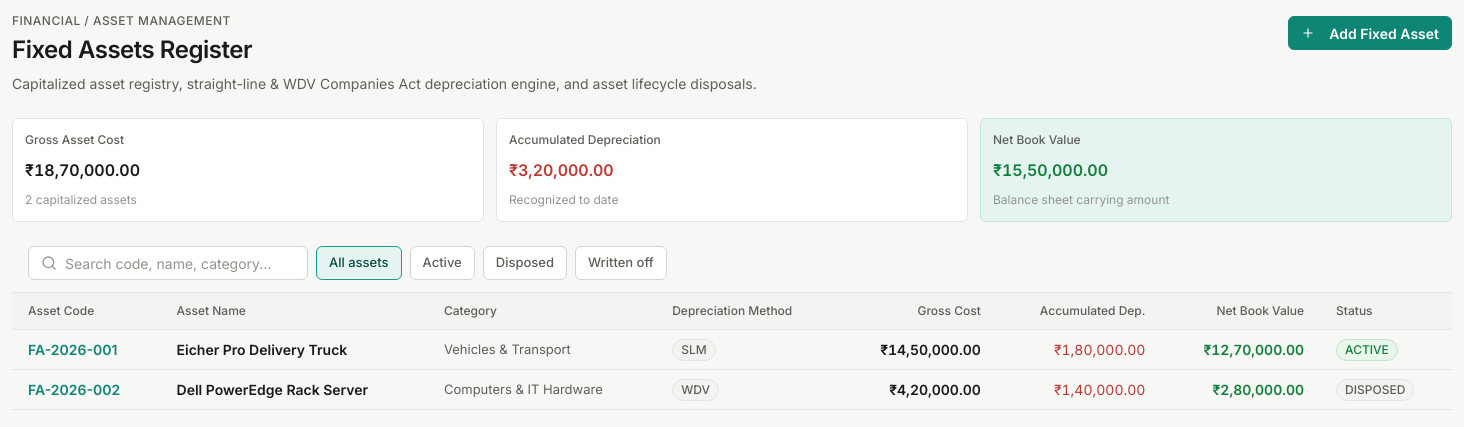
Test: FixedAssetsPage › filters assets by lifecycle status tabs
This screenshot has width=1464, height=427.
Check: the link "FA-2026-001" is shown, box [28,341,117,358]
Check: the link "FA-2026-002" is shown, box [28,381,120,398]
Click the button "Active": (442, 263) [410,246,475,280]
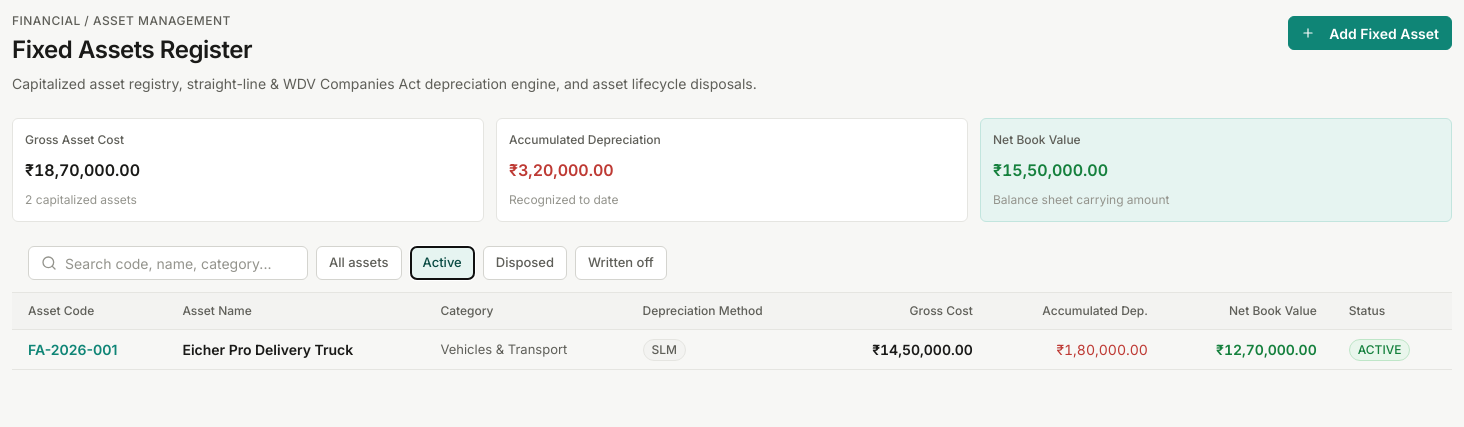
Check: the link "FA-2026-001" is shown, box [28,341,117,358]
Check: the link "FA-2026-002" is gone
Click the button "Disposed": (525, 263) [483,246,567,280]
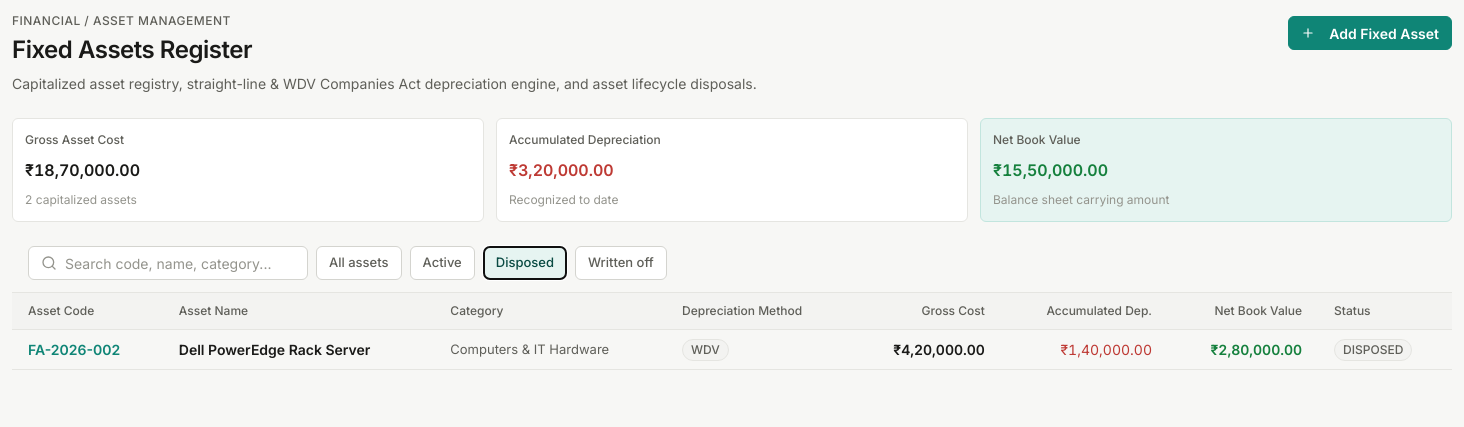
Check: the link "FA-2026-001" is gone
Check: the link "FA-2026-002" is shown, box [28,341,120,358]
